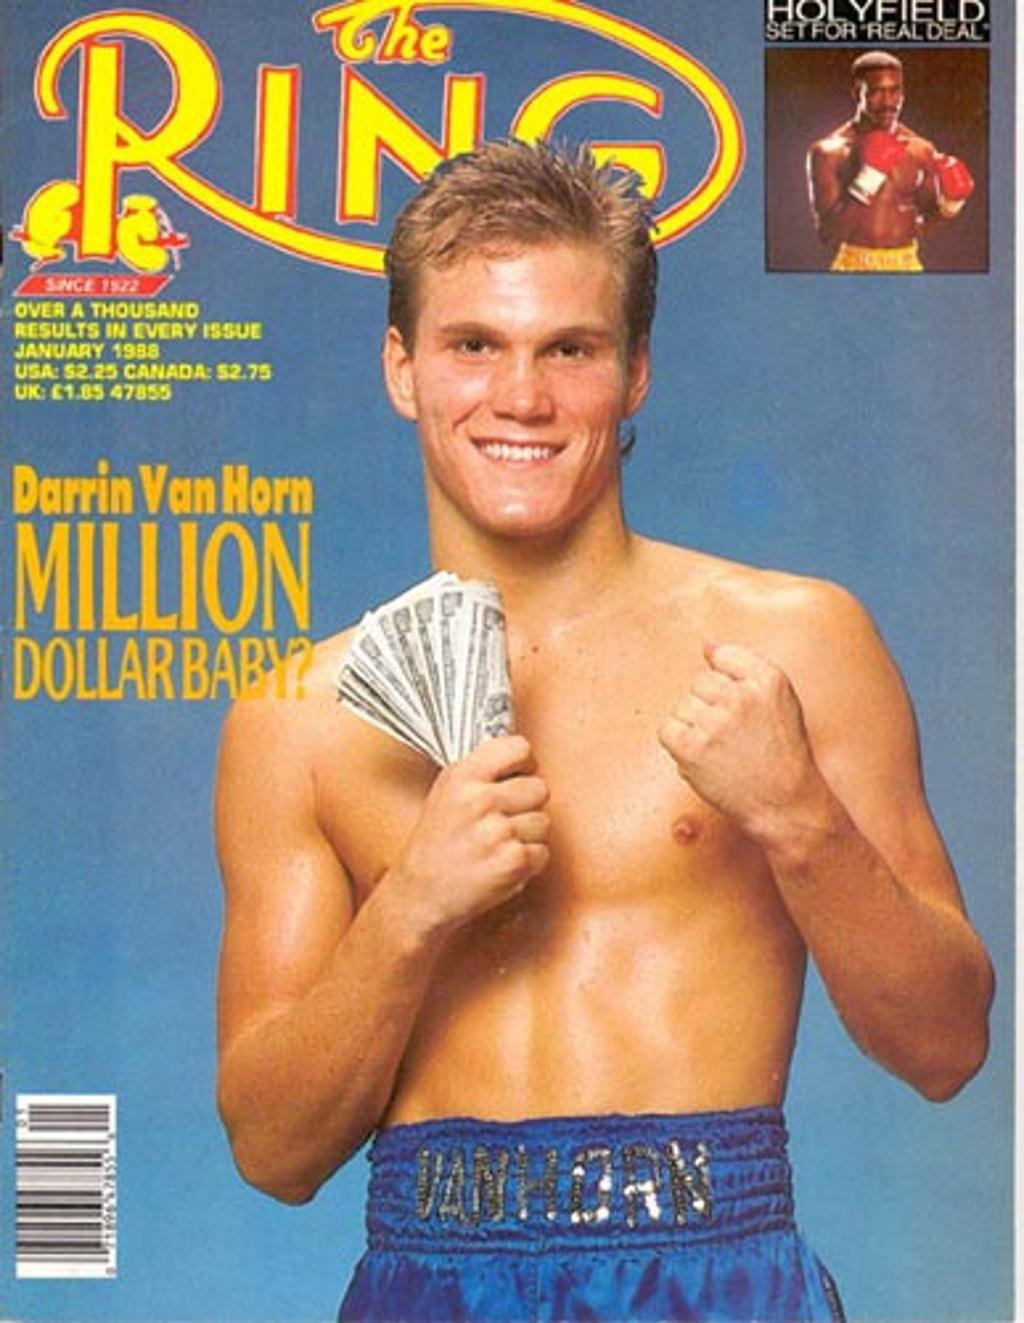face: (410, 241, 629, 539), (860, 67, 903, 124)
